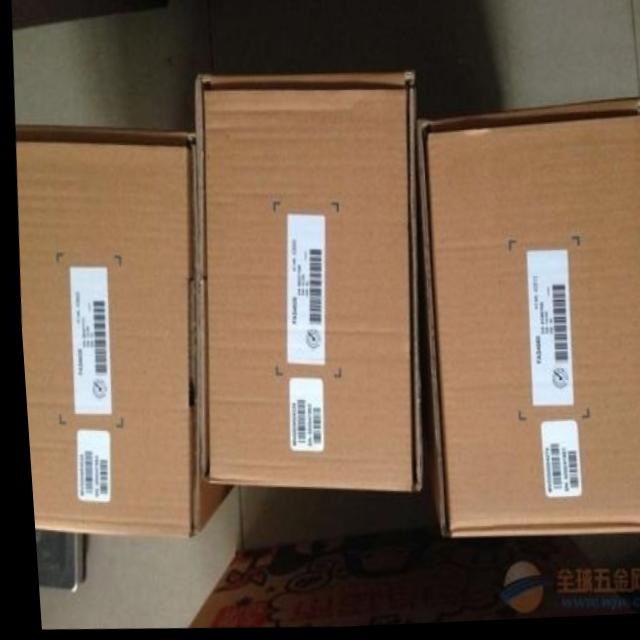box: (416, 101, 640, 540), (194, 77, 416, 494), (13, 127, 228, 539)
